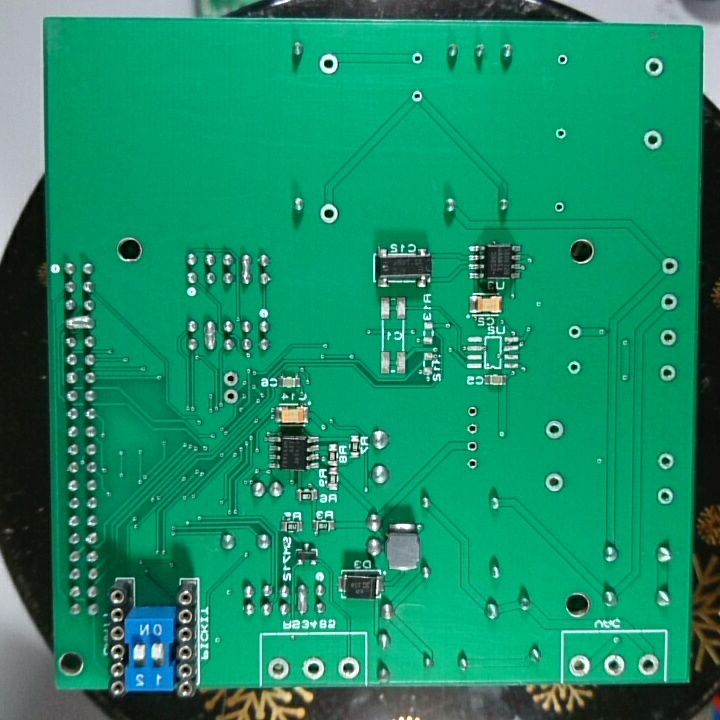F: (635, 649, 661, 680), (601, 651, 628, 679), (642, 53, 667, 83), (266, 654, 293, 681), (335, 654, 361, 681), (300, 655, 327, 681), (568, 652, 593, 680), (318, 50, 341, 76), (544, 469, 567, 495), (659, 290, 682, 315), (544, 418, 567, 443), (640, 127, 666, 149), (659, 254, 681, 279), (657, 326, 680, 349), (318, 200, 342, 221), (656, 451, 678, 472), (656, 363, 679, 383), (656, 486, 676, 507), (565, 323, 583, 345), (221, 386, 240, 406), (221, 370, 242, 387), (465, 453, 481, 475), (553, 124, 569, 145), (410, 50, 427, 69), (566, 358, 585, 375), (465, 402, 482, 420), (465, 420, 482, 438), (410, 89, 427, 105), (551, 200, 569, 215), (556, 51, 570, 69), (467, 438, 481, 456)
P: (64, 313, 97, 334), (239, 252, 255, 289), (200, 319, 219, 349), (293, 582, 310, 615)
